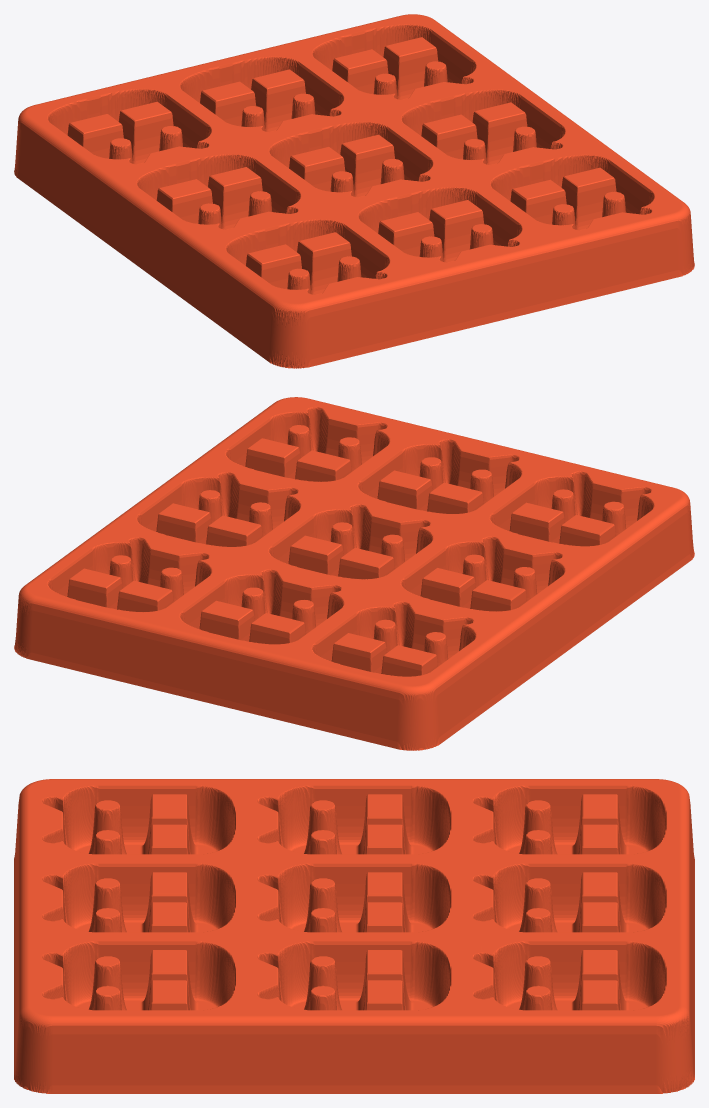
The model's file is mold.glb.
3 renders of one model, top to bottom at view 1: azimuth 30°, elevation 25°; view 2: azimuth 150°, elevation 25°; view 3: azimuth 270°, elevation 25°, orthographic. The views are drawn at different scales.
Parts seen in each view (by area): view 1: geometry_0; view 2: geometry_0; view 3: geometry_0.
Part boxes in pixels (left/top/right/bottom): geometry_0: left=14, top=14, right=694, bottom=368; geometry_0: left=14, top=397, right=694, bottom=750; geometry_0: left=14, top=779, right=694, bottom=1093.
Size of the model in its own units: 0.1379 by 0.0185 by 0.1595.
